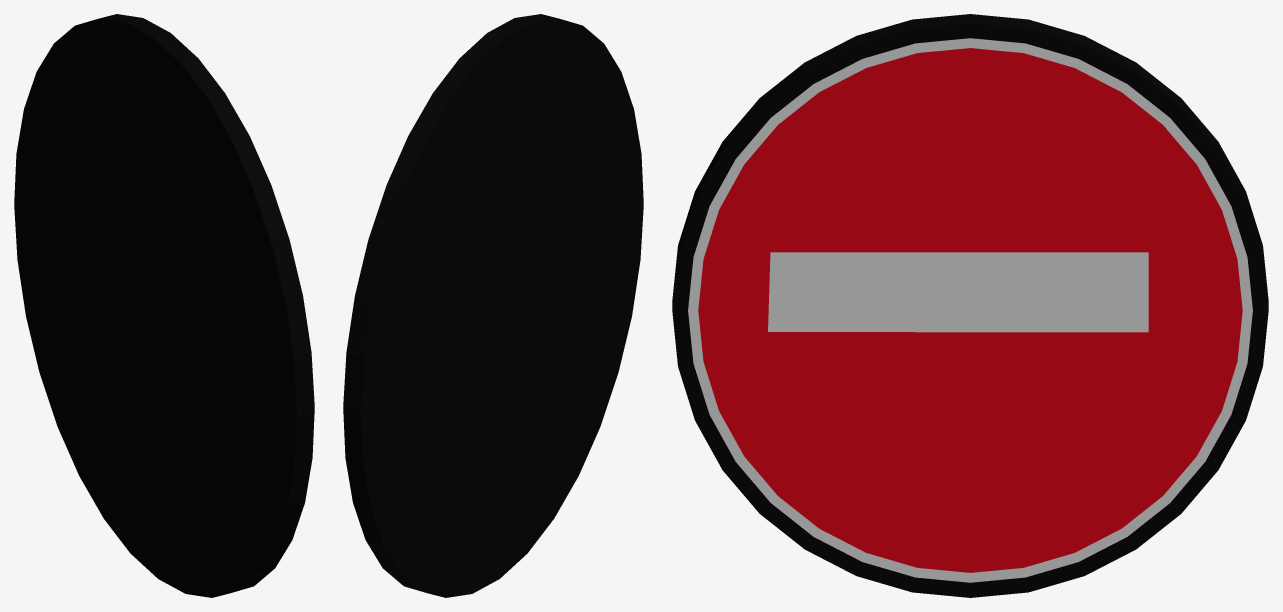
File: no_entry(no_pole).fbx
The picture shows the model from 3 angles, left to right: view 1: azimuth 30°, elevation 25°; view 2: azimuth 150°, elevation 25°; view 3: azimuth 270°, elevation 25°; orthographic projection. The views are drawn at different scales.
Visible parts, largest first — view 1: Circle; view 2: Circle; view 3: Circle.
Boxes of the visible parts, left/top/right/bottom form: Circle: left=14, top=14, right=314, bottom=597; Circle: left=343, top=14, right=643, bottom=597; Circle: left=672, top=14, right=1268, bottom=597.
Size of the model in its own units: 0.4451 by 10.05 by 9.48.
